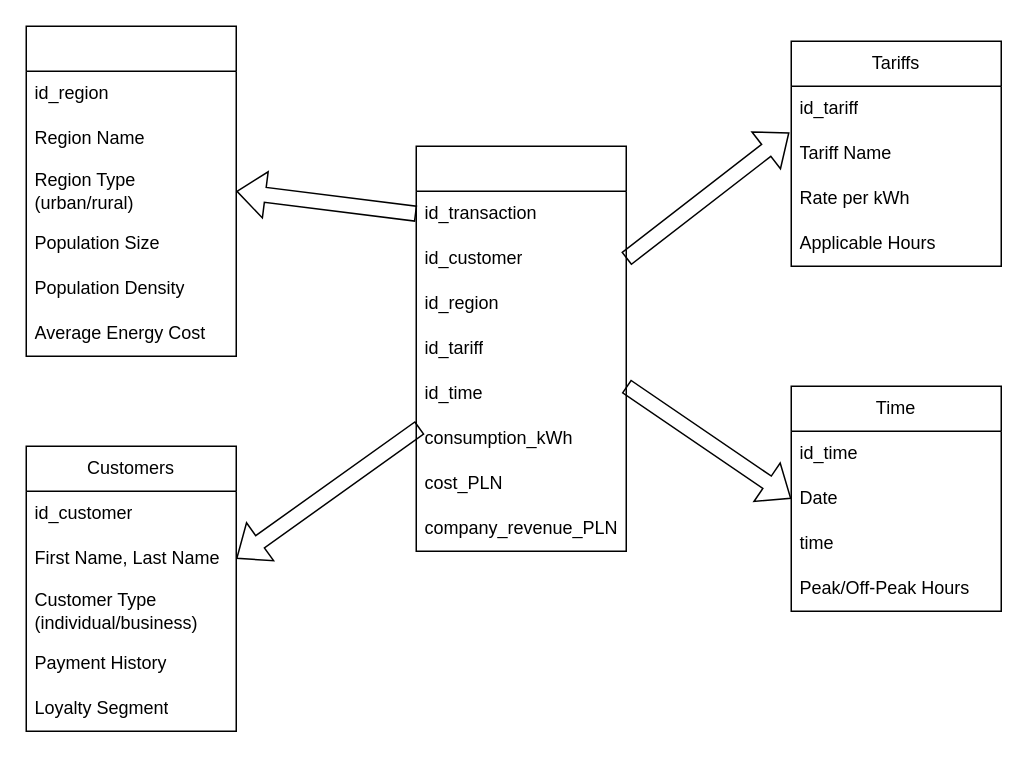
Some shapes in this 1028 by 758 pixel diagram are drawn without their labels. The shapes that lost their labels are listed below. From the top down, each one's box as (x1, y1, x2, y2) in pixels, then its label:
(25, 25, 236, 356): Regions
(415, 145, 626, 551): Energy Area Usage
